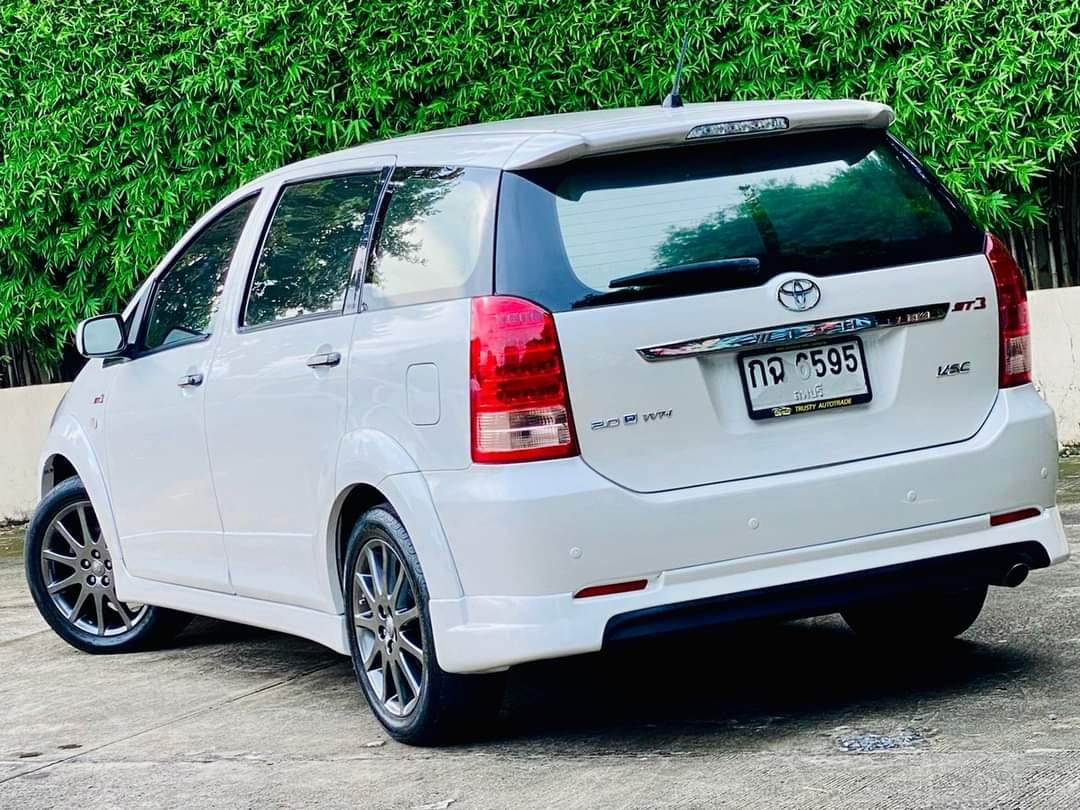license-plate: (724, 331, 885, 423)
